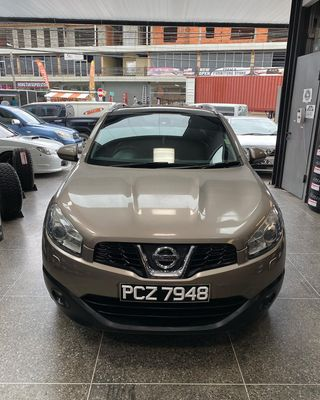License-Plate: (120, 284, 209, 301)
